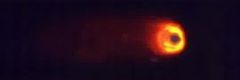keyhole: (168, 32, 182, 47)
